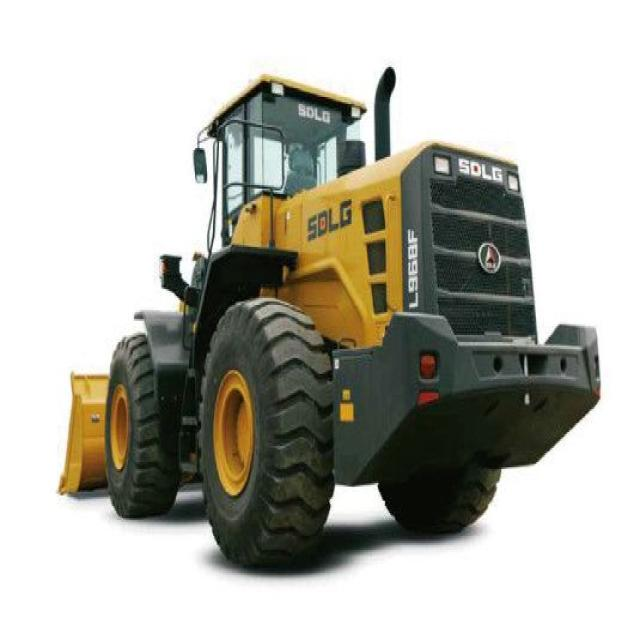buldozerpayloadergrader: (56, 67, 603, 572)
